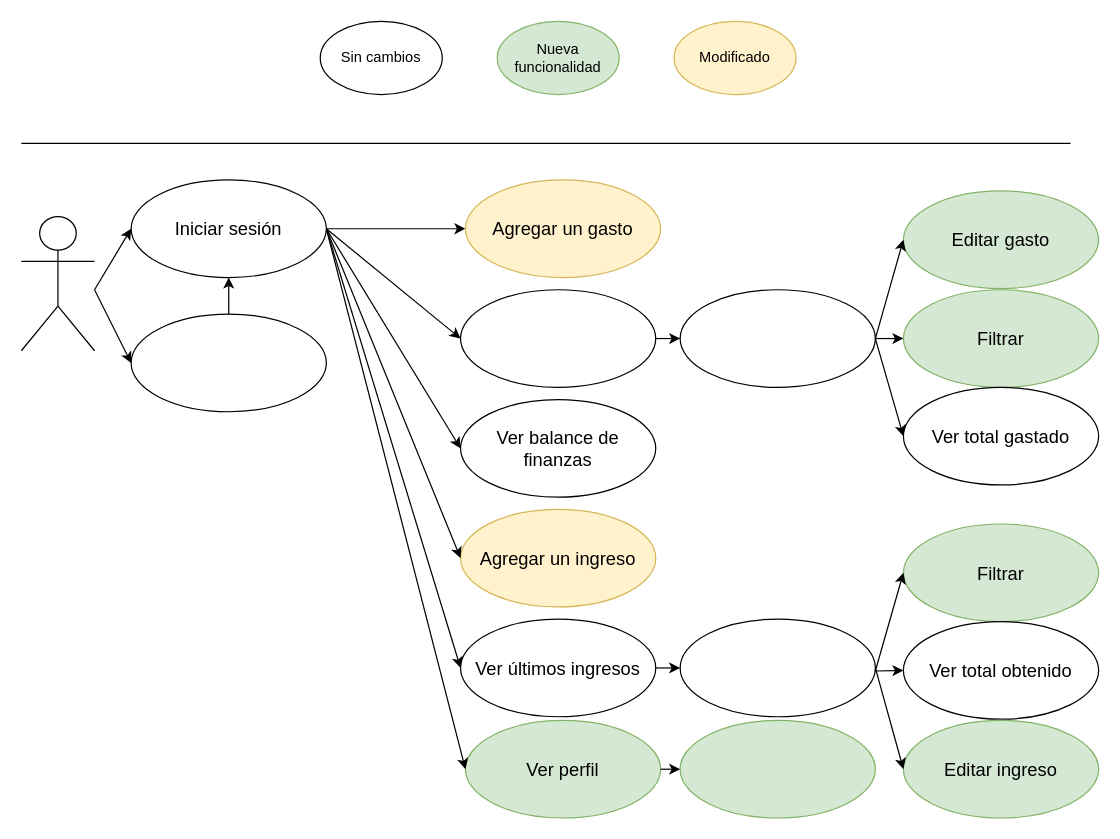
Image size: 1120x839. Some labels were removed from this diagram. Each missing label, with the box of its shape:
Actor: (20, 215, 95, 351)
Cerrar sesion: (679, 719, 875, 818)
Registrarse: (130, 313, 326, 412)
Ver todos los gastos realizados: (679, 289, 875, 387)
Ver todos los ingresos: (679, 618, 875, 717)
Ver últimos gastos: (459, 289, 656, 387)
